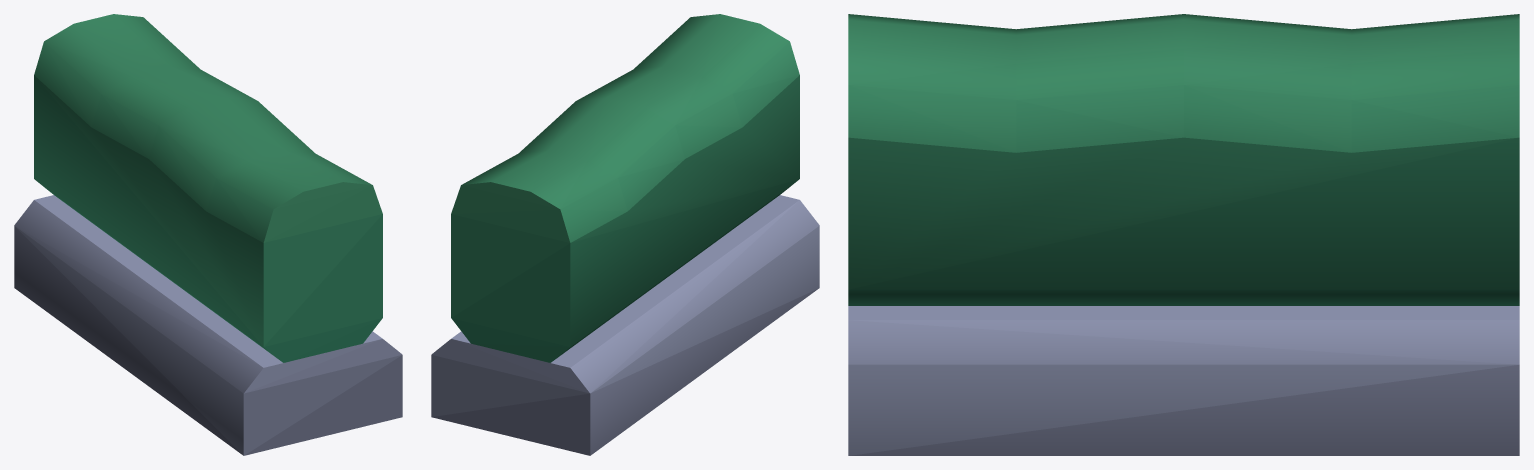
File: fantasytown_hedge_large.glb
3 views of the same model, side by side, from view 1: azimuth 30°, elevation 25°; view 2: azimuth 150°, elevation 25°; view 3: azimuth 270°, elevation 25° (orthographic). The views are drawn at different scales.
Parts seen in each view (by area): view 1: fantasytown_hedge_large; view 2: fantasytown_hedge_large; view 3: fantasytown_hedge_large.
Part boxes in pixels (x1,y1,x2,y2): fantasytown_hedge_large: [14, 14, 402, 455]; fantasytown_hedge_large: [431, 14, 819, 455]; fantasytown_hedge_large: [848, 14, 1519, 455].
Bounding box in the file's own units: 0.4 × 0.6 × 1.
